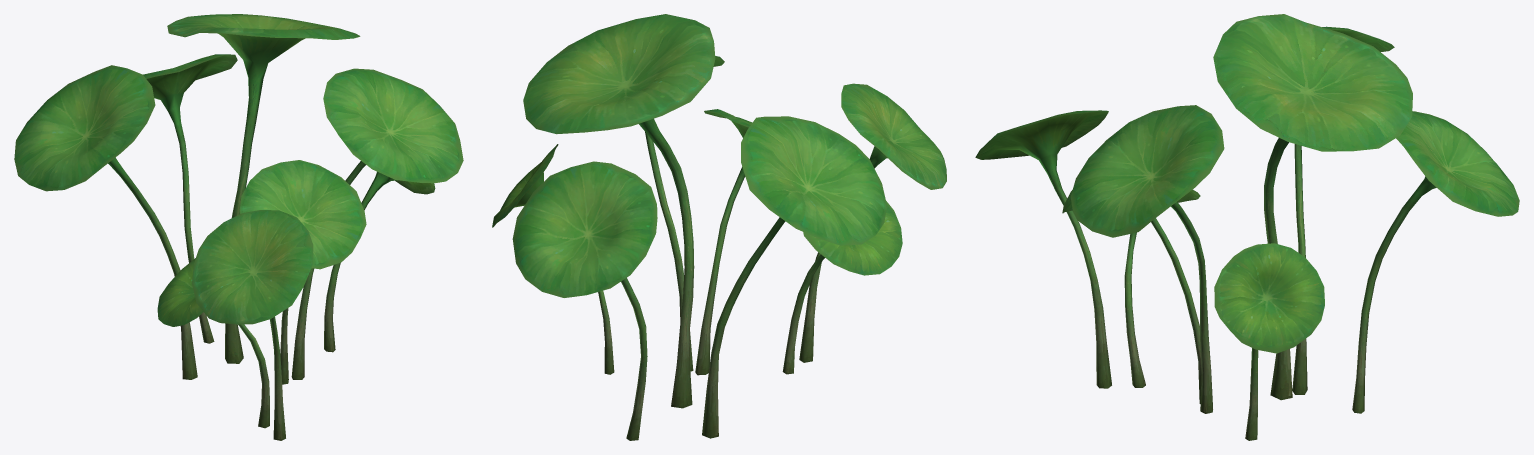
The model's file is Homeworld_Exterior_Xm_Plant_Tree_ForestIn_01_Lod0.fbx.
3 renders of one model, left to right at view 1: azimuth 30°, elevation 25°; view 2: azimuth 150°, elevation 25°; view 3: azimuth 270°, elevation 25°, orthographic. The views are drawn at different scales.
Parts seen in each view (by area): view 1: Area_Xm_Grass_SZL_Heye_01_02_Lod0, Area_Xm_Grass_SZL_Heye_01_01_Lod0; view 2: Area_Xm_Grass_SZL_Heye_01_02_Lod0, Area_Xm_Grass_SZL_Heye_01_01_Lod0; view 3: Area_Xm_Grass_SZL_Heye_01_02_Lod0, Area_Xm_Grass_SZL_Heye_01_01_Lod0.
Part boxes in pixels (x1=…): Area_Xm_Grass_SZL_Heye_01_02_Lod0: x1=14, y1=14, x2=463, y2=326; Area_Xm_Grass_SZL_Heye_01_01_Lod0: x1=86, y1=32, x2=441, y2=440; Area_Xm_Grass_SZL_Heye_01_02_Lod0: x1=492, y1=14, x2=946, y2=297; Area_Xm_Grass_SZL_Heye_01_01_Lod0: x1=493, y1=56, x2=930, y2=440; Area_Xm_Grass_SZL_Heye_01_02_Lod0: x1=975, y1=14, x2=1519, y2=353; Area_Xm_Grass_SZL_Heye_01_01_Lod0: x1=976, y1=29, x2=1464, y2=440.
Size of the model in its own units: 5.42 by 4.9 by 6.26.
Materials: 1 (1 with a texture image).
